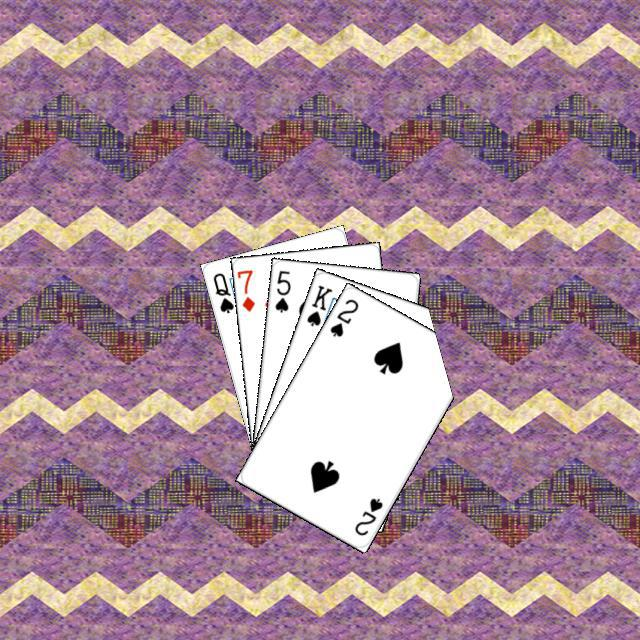2s: (325, 294, 360, 339), (350, 493, 385, 537)
5s: (270, 265, 292, 314)
7d: (234, 264, 256, 313)
Ks: (302, 280, 334, 328)
Qs: (208, 268, 235, 315)
